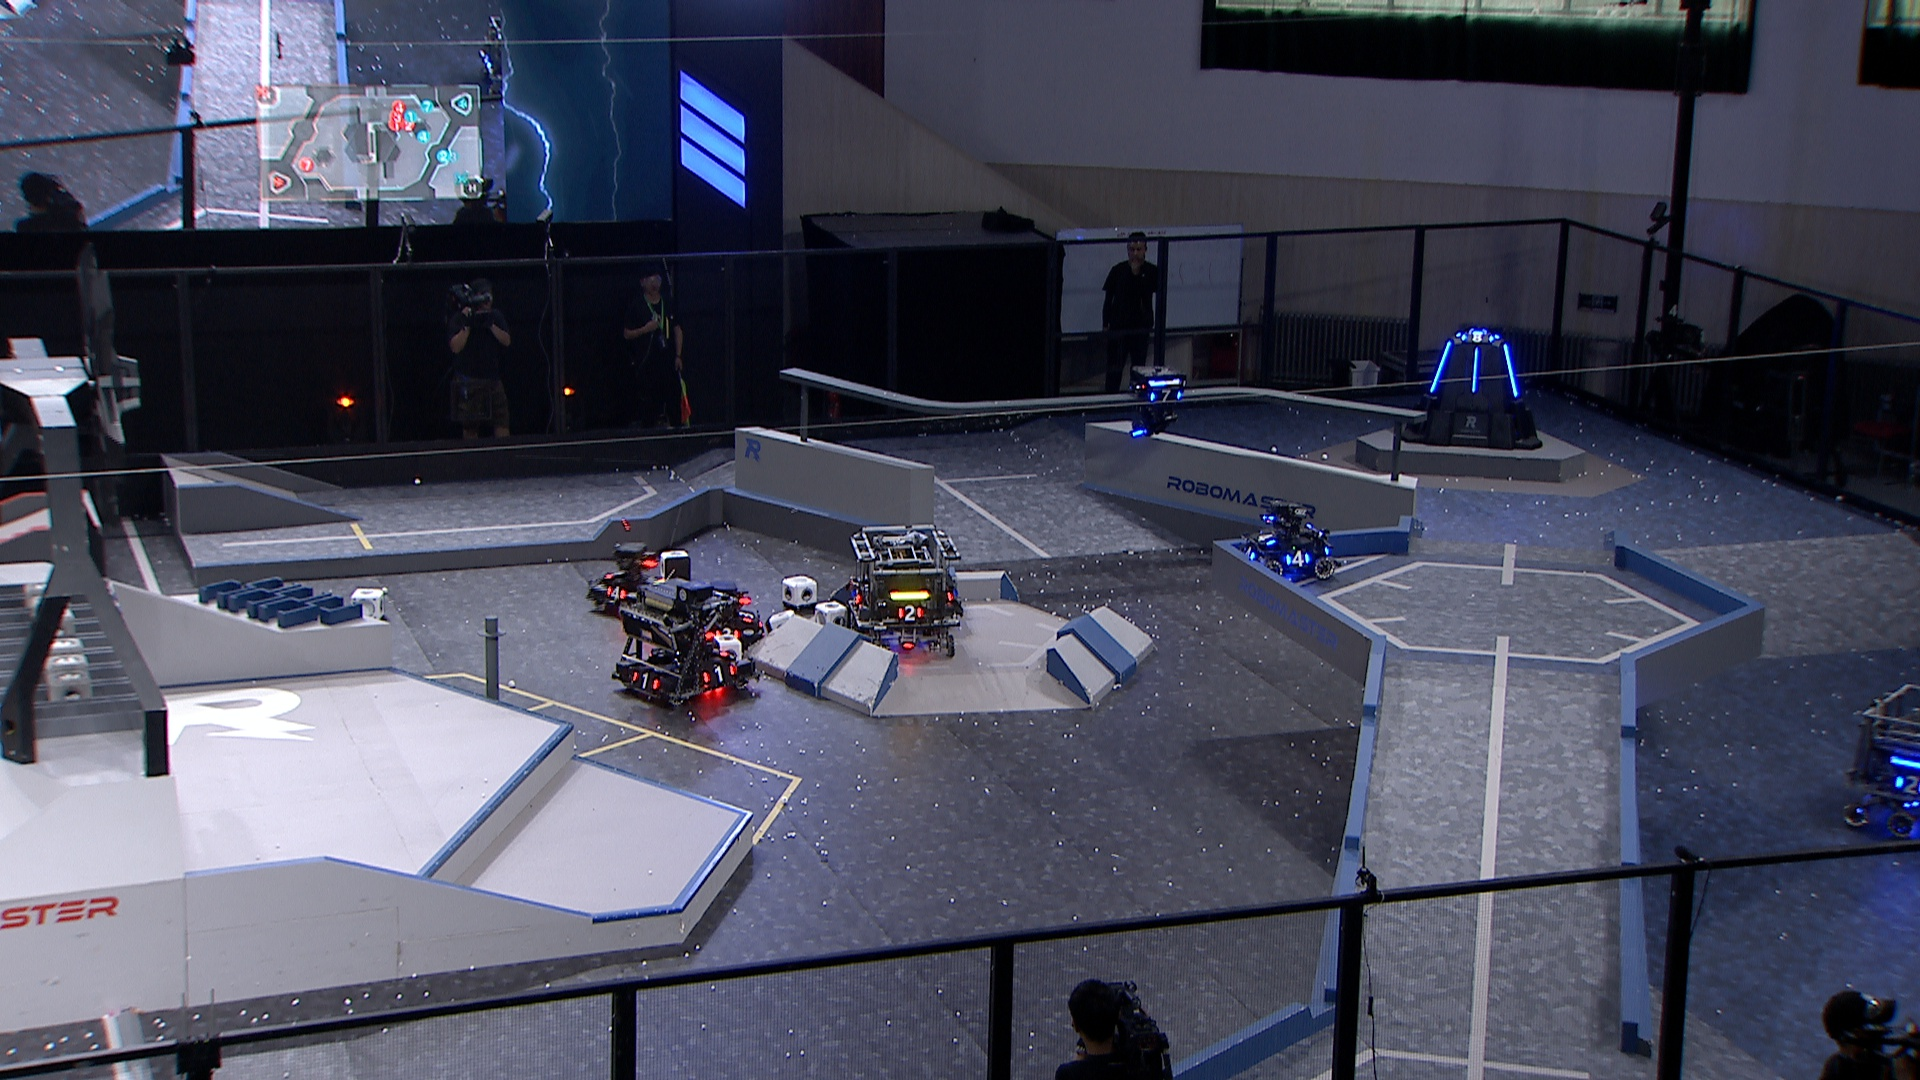armor: (1428, 338, 1452, 398), (1501, 342, 1523, 400), (703, 662, 737, 684), (1147, 386, 1185, 406), (629, 670, 659, 694), (1894, 773, 1920, 799), (1468, 344, 1481, 394), (1458, 328, 1495, 345), (1283, 547, 1311, 570), (895, 604, 923, 622), (1254, 529, 1276, 549), (604, 585, 626, 603), (713, 626, 742, 640), (1240, 545, 1259, 562), (737, 608, 756, 624), (849, 589, 864, 607)
base: (1393, 324, 1543, 452)
car: (609, 575, 760, 711), (841, 524, 963, 659), (1840, 683, 1920, 844), (1236, 496, 1342, 583), (585, 543, 670, 612), (688, 582, 769, 647)
ignore: (475, 15, 505, 98)
watcher: (1127, 363, 1185, 438)
